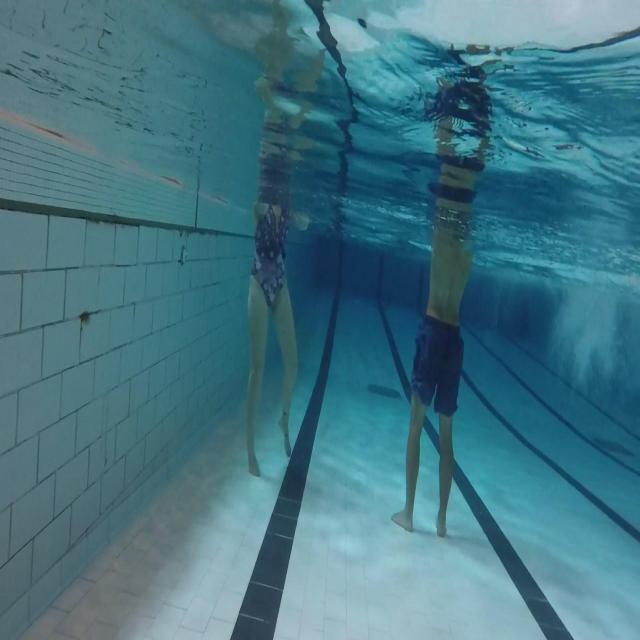human: (390, 58, 493, 538), (239, 185, 302, 475)
